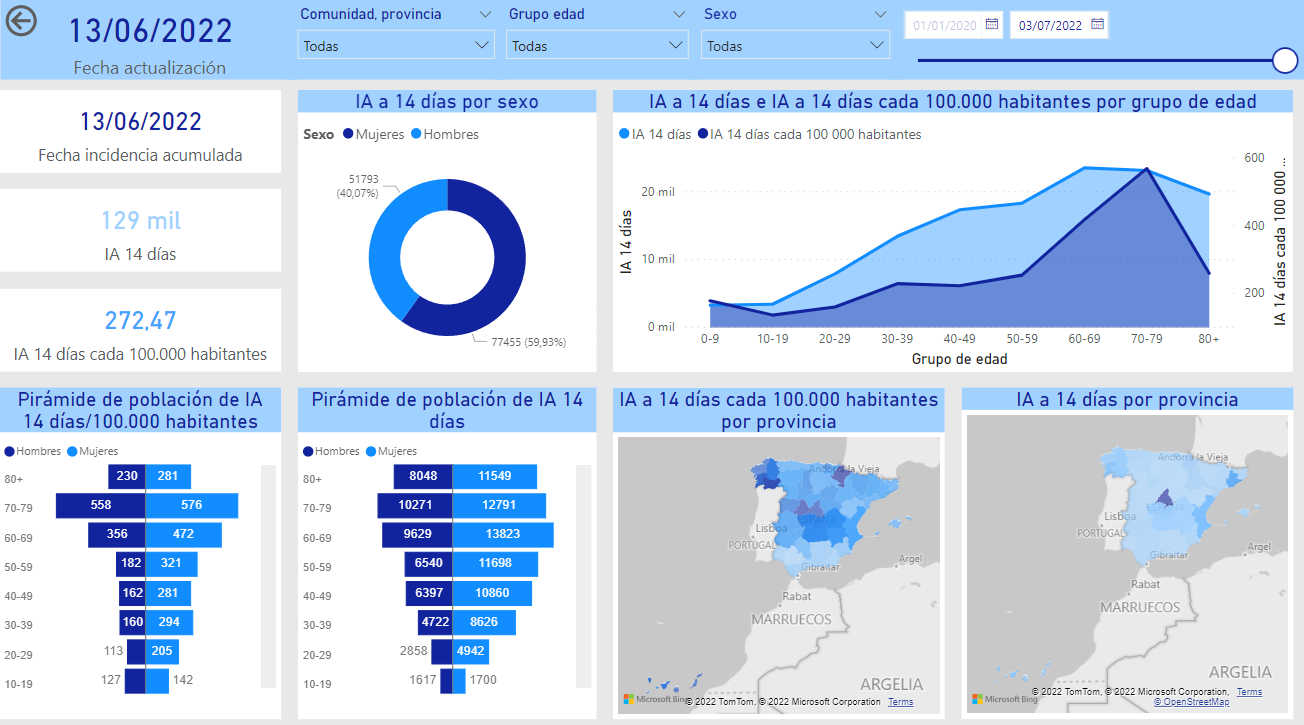

The dashboard page shown, as its layout file describes it:
{"tool":"powerbi","page":{"name":"Incidencia acumulada","canvas":[1280,720],"ordinal":1},"visuals":[{"type":"card","fields":{"Values":["FACT_CASOS.Datos de"]},"box":[16.7,9.7,288,76.5],"z":0},{"type":"actionButton","box":[16.9,9.6,100.1,39.8],"z":1000},{"type":"slicer","fields":{"Values":["DIM_CALENDARIO.ID_FECHA"]},"box":[875.6,9.6,388.3,77.2],"z":2000},{"type":"slicer","fields":{"Values":["DIM_PROVINCIAS.CCAA","DIM_PROVINCIAS.PROVINCIA"]},"box":[293.1,9.6,211.1,77.2],"z":3000},{"type":"slicer","fields":{"Values":["DIM_DEMOGRAFIA.GRUPO_EDAD"]},"box":[494.4,9.6,196.4,76.9],"z":4000},{"type":"slicer","fields":{"Values":["DIM_DEMOGRAFIA.SEXO"]},"box":[682.6,9.6,202.6,77.2],"z":5000},{"type":"filledMap","title":"IA a 14 días por provincia","fields":{"Category":["DIM_PROVINCIAS.PROVINCIA_COMPLETA"]},"box":[944,384,320,320],"z":6000},{"type":"card","fields":{"Values":["FACT_CASOS.IA 14 dias"]},"box":[16,192,272,80],"z":7000},{"type":"card","fields":{"Values":["FACT_CASOS.Fecha Incidencia acumulada"]},"box":[16,96,272,80],"z":8000},{"type":"areaChart","title":"IA a 14 días e IA a 14 días cada 100.000 habitantes por grupo de edad","fields":{"Y":["FACT_CASOS.IA 14 dias"],"Y2":["FACT_CASOS.IA 14 dias cada 100 000 habitantes"],"Category":["DIM_DEMOGRAFIA.GRUPO_EDAD"]},"box":[608,96,656,272],"z":9000},{"type":"filledMap","title":"IA a 14 días cada 100.000 habitantes por provincia","fields":{"Category":["DIM_PROVINCIAS.PROVINCIA_COMPLETA"]},"box":[608,384,320,320],"z":10000},{"type":"TornadoChart1452517688218","title":"Pirámide de población de IA 14 días/100.000 habitantes","fields":{"Values":["FACT_CASOS.IA 14 dias cada 100 000 habitantes"],"Category":["DIM_DEMOGRAFIA.GRUPO_EDAD"],"Series":["DIM_DEMOGRAFIA.SEXO"]},"box":[16,384,272,320],"z":11000},{"type":"TornadoChart1452517688218","title":"Pirámide de población de IA 14 días","fields":{"Values":["FACT_CASOS.IA 14 dias"],"Category":["DIM_DEMOGRAFIA.GRUPO_EDAD"],"Series":["DIM_DEMOGRAFIA.SEXO"]},"box":[304,384,288,320],"z":12000},{"type":"card","fields":{"Values":["FACT_CASOS.IA 14 dias cada 100 000 habitantes"]},"box":[16,288,272,80],"z":13000},{"type":"donutChart","title":"IA a 14 días por sexo","fields":{"Y":["FACT_CASOS.IA 14 dias"],"Category":["DIM_DEMOGRAFIA.SEXO"]},"box":[304,96,288,272],"z":14000}]}

Visuals, with their boxes in screenshot pixels (x1, y1, x2, y2), scaled from the page's 1280x720 canvas onto the 1304x725 screenshot:
card - FACT_CASOS.Datos de: <box>17,10,310,87</box>
actionButton: <box>17,10,119,50</box>
slicer - DIM_CALENDARIO.ID_FECHA: <box>892,10,1288,87</box>
slicer - DIM_PROVINCIAS.CCAA x DIM_PROVINCIAS.PROVINCIA: <box>299,10,514,87</box>
slicer - DIM_DEMOGRAFIA.GRUPO_EDAD: <box>504,10,704,87</box>
slicer - DIM_DEMOGRAFIA.SEXO: <box>695,10,902,87</box>
"IA a 14 días por provincia" filledMap: <box>962,387,1288,709</box>
card - FACT_CASOS.IA 14 dias: <box>16,193,293,274</box>
card - FACT_CASOS.Fecha Incidencia acumulada: <box>16,97,293,177</box>
"IA a 14 días e IA a 14 días cada 100.000 habitantes por grupo de edad" areaChart: <box>619,97,1288,371</box>
"IA a 14 días cada 100.000 habitantes por provincia" filledMap: <box>619,387,945,709</box>
"Pirámide de población de IA 14 días/100.000 habitantes" TornadoChart1452517688218: <box>16,387,293,709</box>
"Pirámide de población de IA 14 días" TornadoChart1452517688218: <box>310,387,603,709</box>
card - FACT_CASOS.IA 14 dias cada 100 000 habitantes: <box>16,290,293,371</box>
"IA a 14 días por sexo" donutChart: <box>310,97,603,371</box>
